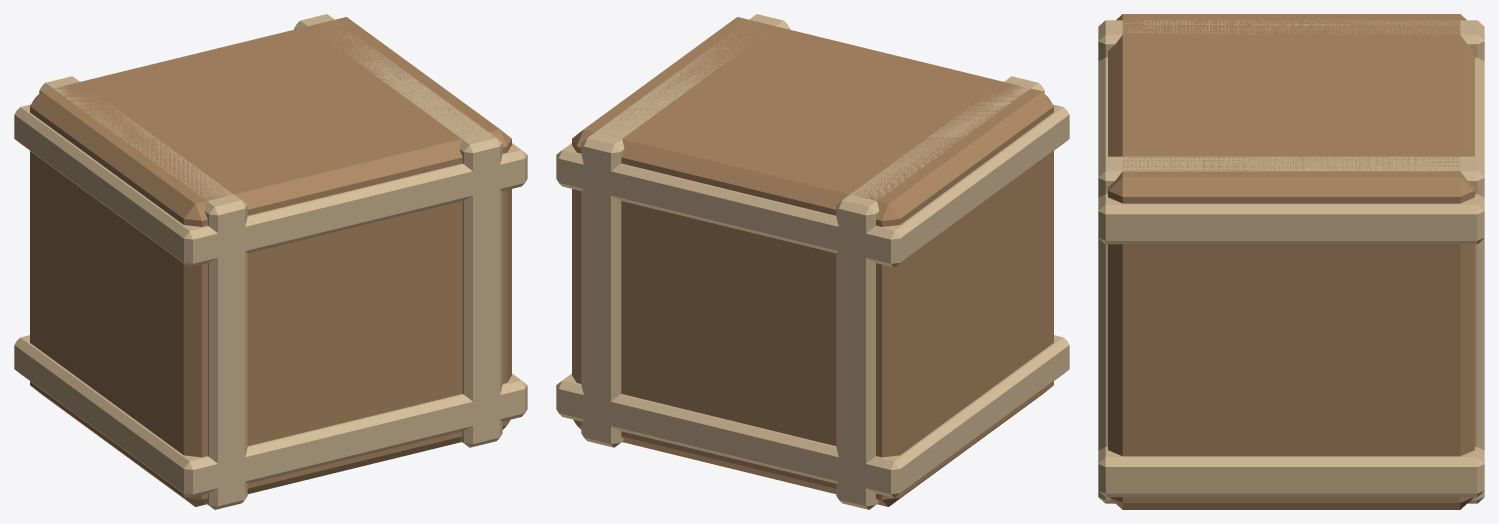
The model's file is wood_crate.glb.
3 views of the same model, side by side, from view 1: azimuth 30°, elevation 25°; view 2: azimuth 150°, elevation 25°; view 3: azimuth 270°, elevation 25° (orthographic). The views are drawn at different scales.
Visible parts, largest first — view 1: crate, frame (×2), brace (×2); view 2: crate, frame (×2), brace (×2); view 3: crate, frame (×2), brace (×2).
Boxes of the visible parts, x1,y1,x2,y2 form: crate: [30, 17, 511, 506]; frame (×2): [14, 104, 527, 497]; brace (×2): [39, 14, 502, 509]; crate: [572, 17, 1053, 506]; frame (×2): [556, 104, 1069, 497]; brace (×2): [581, 14, 1044, 509]; crate: [1108, 14, 1474, 509]; frame (×2): [1098, 57, 1484, 497]; brace (×2): [1098, 20, 1484, 503].
Size of the model in its own units: 0.89 by 0.75 by 0.79.
